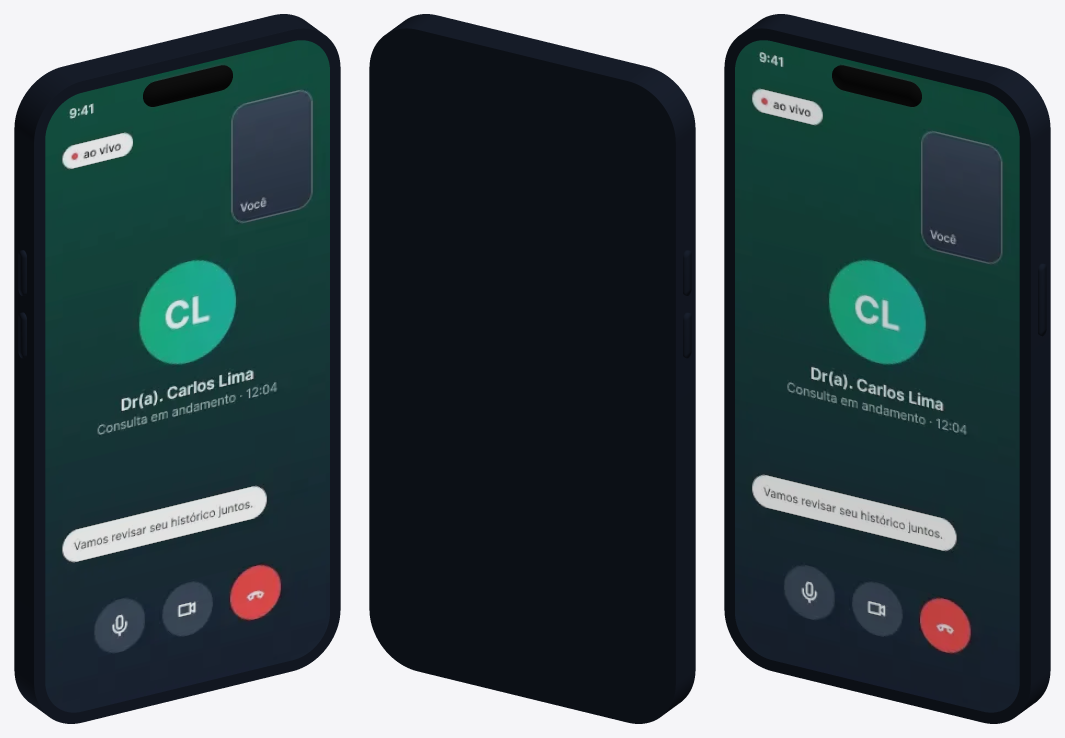
File: phone-app.glb
3 views of the same model, side by side, from view 1: azimuth 30°, elevation 25°; view 2: azimuth 150°, elevation 25°; view 3: azimuth 330°, elevation 25° (orthographic).
Visible parts, largest first — view 1: Phone_Screen, Phone_Body, Phone_Island, Phone_Buttons; view 2: Phone_Body, Phone_Buttons; view 3: Phone_Screen, Phone_Body, Phone_Island, Phone_Buttons.
Part boxes in pixels (box(x1,y1,x2,y2)): Phone_Screen: box(45, 40, 329, 712); Phone_Body: box(14, 14, 340, 723); Phone_Island: box(143, 65, 232, 106); Phone_Buttons: box(18, 250, 26, 358); Phone_Body: box(369, 14, 695, 723); Phone_Buttons: box(683, 250, 691, 358); Phone_Screen: box(735, 40, 1019, 712); Phone_Body: box(724, 14, 1050, 723); Phone_Island: box(832, 65, 921, 106); Phone_Buttons: box(1038, 263, 1046, 336).
Bounding box in the file's own units: 0.0734 × 0.144 × 0.00842.
3 materials, 1 textured.
